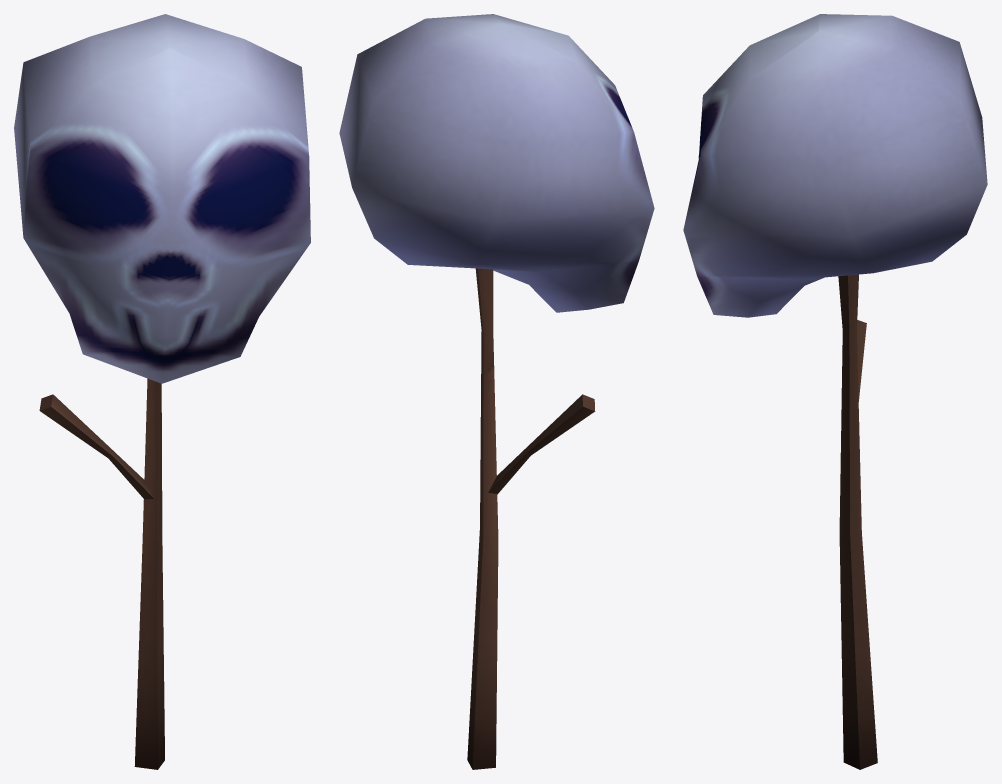
The model's file is Skull_Stick.FBX.
3 views of the same model, side by side, from view 1: azimuth 30°, elevation 25°; view 2: azimuth 150°, elevation 25°; view 3: azimuth 270°, elevation 25° (orthographic).
Parts seen in each view (by area): view 1: Skull_Stick; view 2: Skull_Stick; view 3: Skull_Stick.
Boxes of the visible parts, x1,y1,x2,y2 form: Skull_Stick: [14, 14, 310, 769]; Skull_Stick: [339, 14, 654, 769]; Skull_Stick: [683, 14, 987, 769].
Size of the model in its own units: 37.05 by 86.85 by 32.77.
